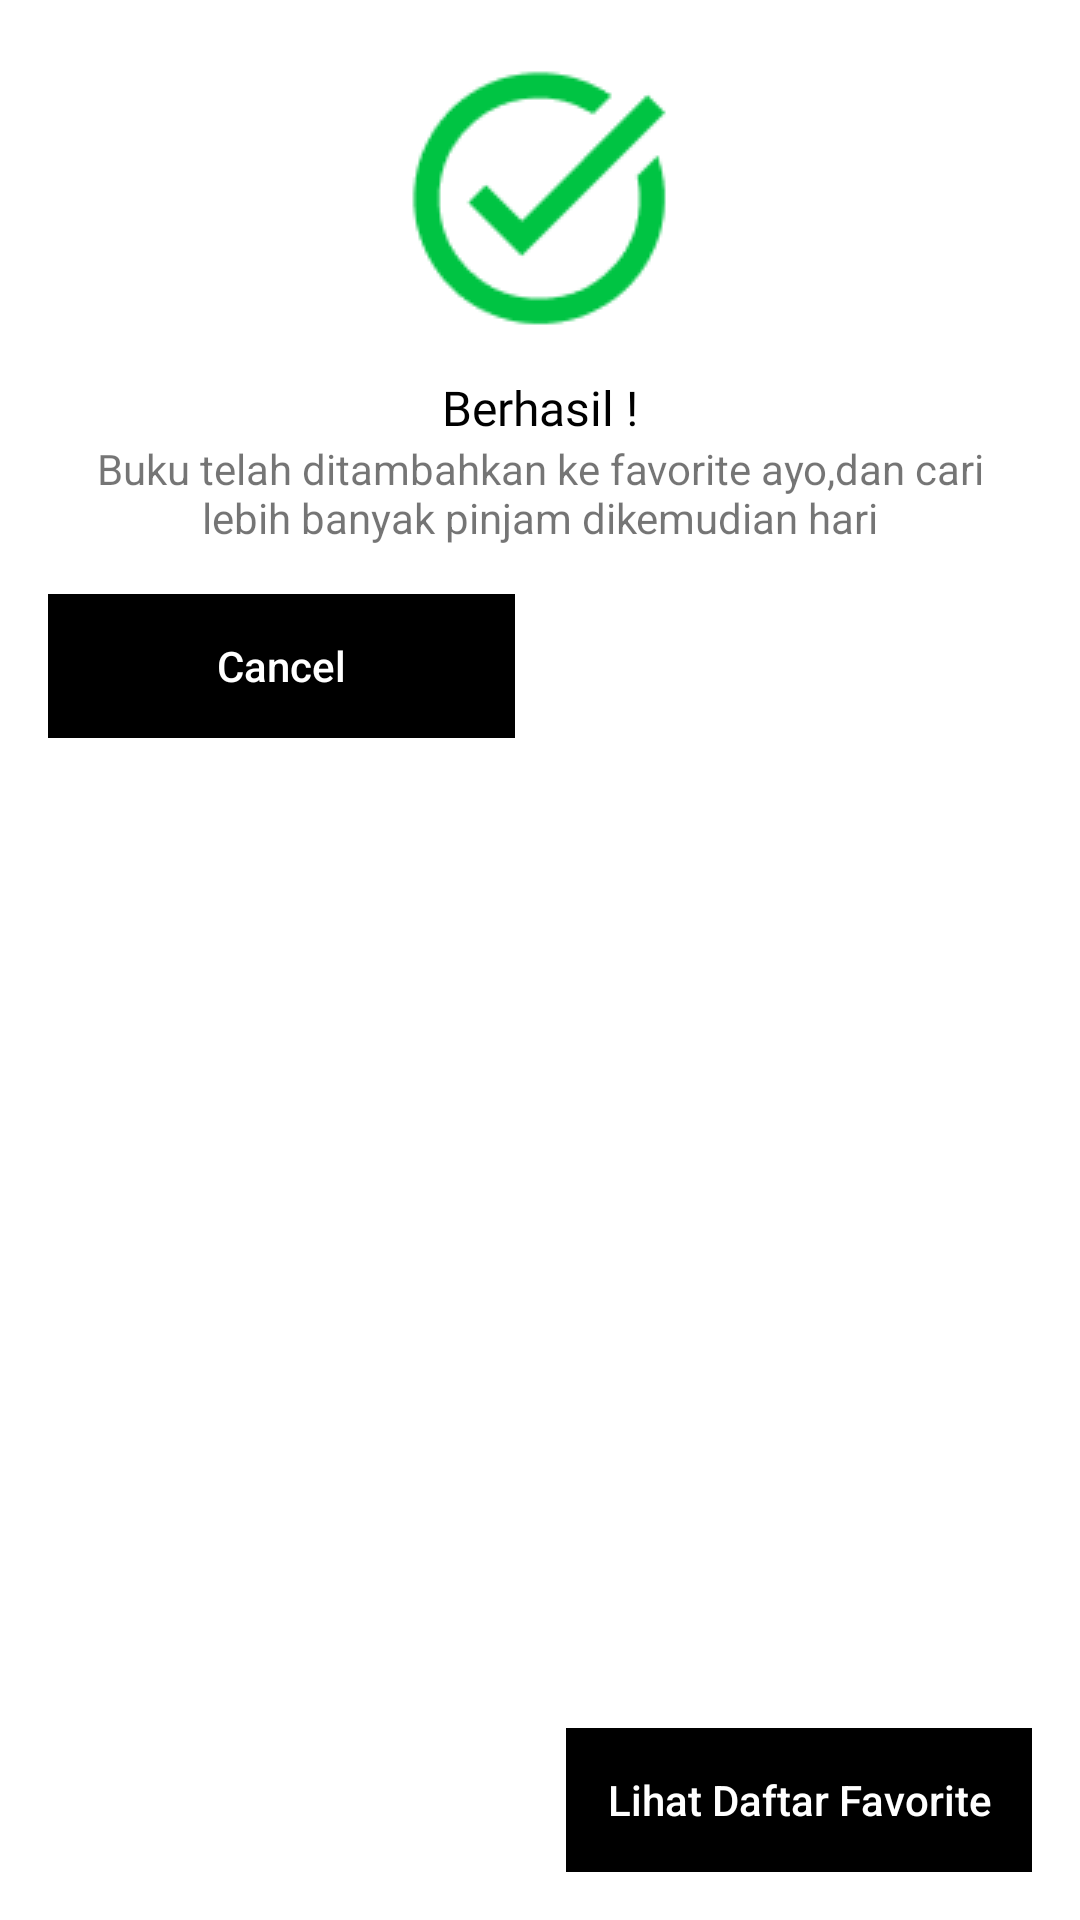

Icon bounding boxes for this 1080 x 1920 phone screenshot, format (x1, y1, x2, y2):
task: (412, 71, 666, 325)
